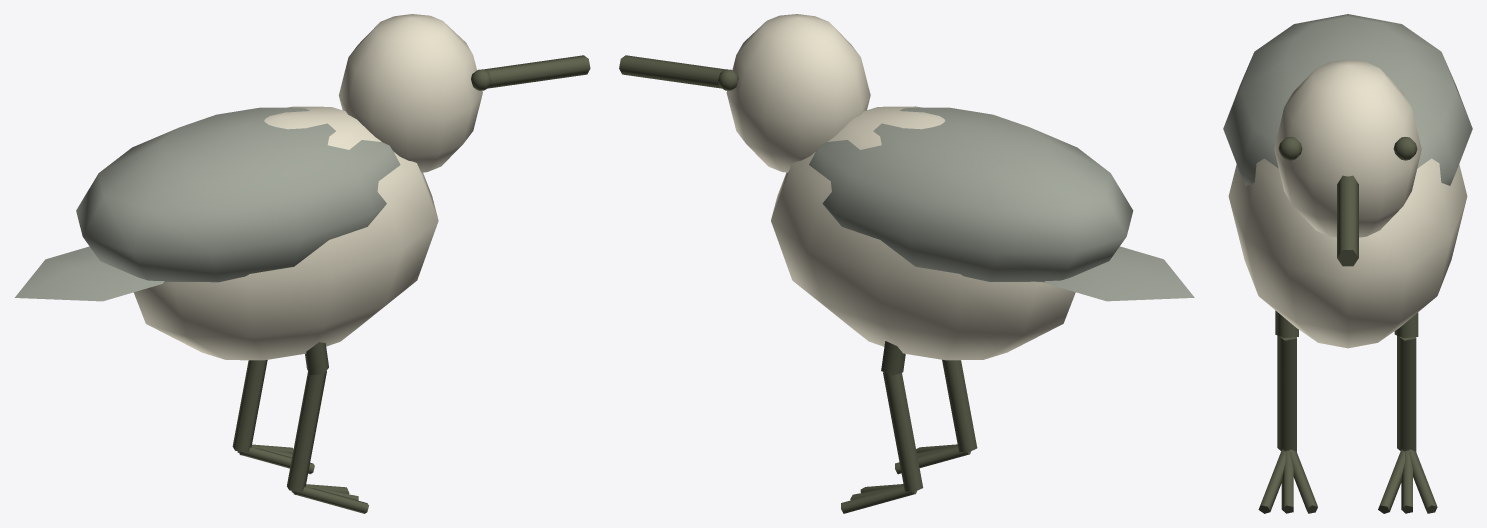
The picture shows the model from 3 angles, left to right: view 1: azimuth 30°, elevation 25°; view 2: azimuth 150°, elevation 25°; view 3: azimuth 270°, elevation 25°; orthographic projection. The views are drawn at different scales.
Parts seen in each view (by area): view 1: Tidemark_walking_sandpiper_grey, Tidemark_walking_sandpiper_cream, head_cream, knee_right_dark, knee_left_dark, head_dark, hip_right_dark; view 2: Tidemark_walking_sandpiper_grey, Tidemark_walking_sandpiper_cream, head_cream, knee_left_dark, knee_right_dark, head_dark; view 3: Tidemark_walking_sandpiper_cream, Tidemark_walking_sandpiper_grey, head_cream, knee_right_dark, knee_left_dark, head_dark, hip_right_dark, hip_left_dark.
Part boxes in pixels (box(x1,y1,x2,y2)): Tidemark_walking_sandpiper_grey: box(14, 107, 400, 301); Tidemark_walking_sandpiper_cream: box(133, 106, 438, 360); head_cream: box(338, 14, 482, 172); knee_right_dark: box(287, 370, 368, 513); knee_left_dark: box(232, 360, 314, 474); head_dark: box(471, 55, 590, 90); hip_right_dark: box(305, 342, 328, 374); Tidemark_walking_sandpiper_grey: box(809, 107, 1194, 301); Tidemark_walking_sandpiper_cream: box(771, 106, 1075, 360); head_cream: box(726, 14, 870, 172); knee_left_dark: box(841, 372, 923, 513); knee_right_dark: box(895, 359, 977, 474); head_dark: box(619, 55, 738, 90); Tidemark_walking_sandpiper_cream: box(1228, 158, 1467, 348); Tidemark_walking_sandpiper_grey: box(1223, 14, 1472, 185); head_cream: box(1274, 60, 1421, 237); knee_right_dark: box(1258, 335, 1317, 513); knee_left_dark: box(1378, 335, 1437, 513); head_dark: box(1278, 137, 1417, 266); hip_right_dark: box(1275, 310, 1298, 338); hip_left_dark: box(1394, 312, 1418, 338).
Size of the model in its own units: 0.6709 by 0.5016 by 0.23.
